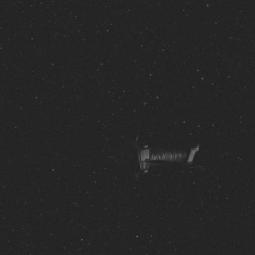xmm_newton: (100, 126, 215, 185)
